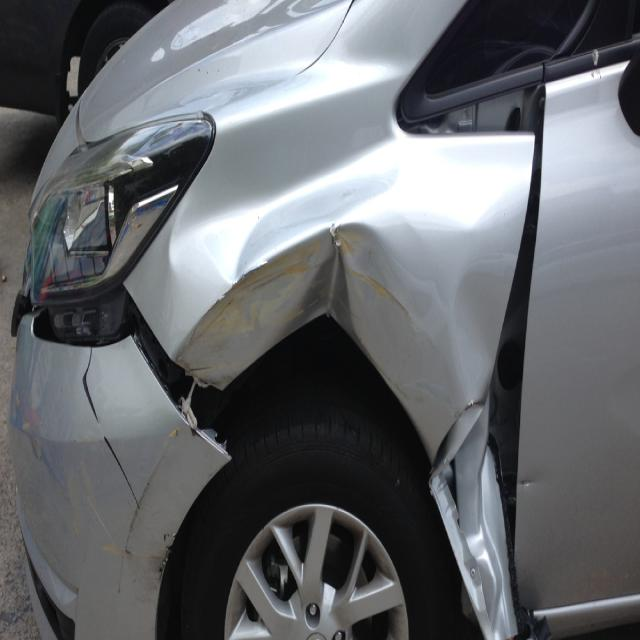dent: (288, 224, 511, 435)
scratch: (66, 347, 175, 595), (174, 231, 328, 383)
